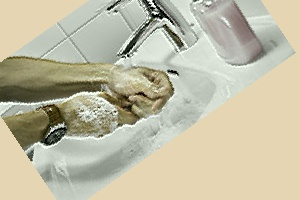washing hand: (14, 0, 224, 181)
